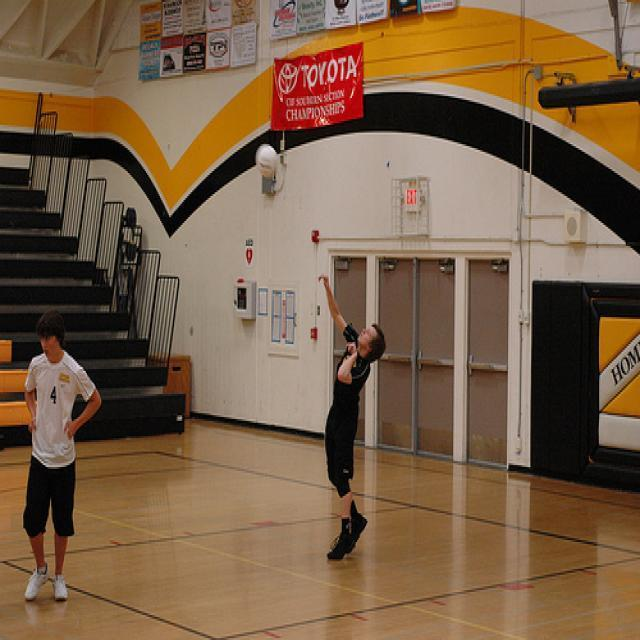volleyball: (256, 144, 278, 177)
